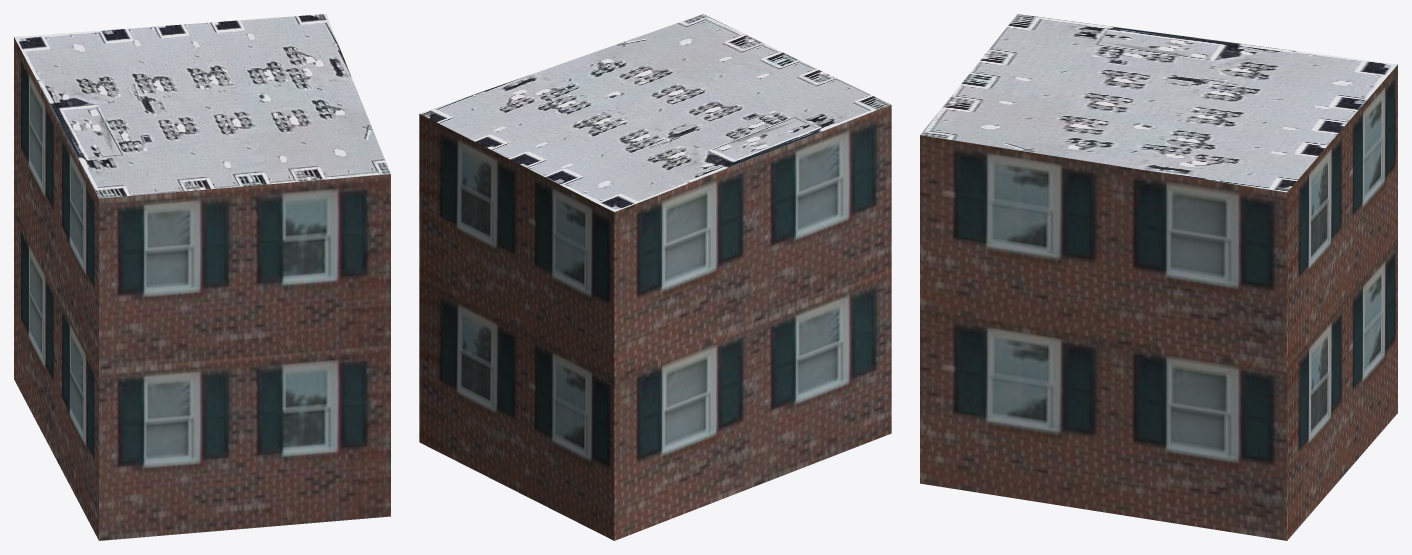
File: ResTex__5093.fbx
The picture shows the model from 3 angles, left to right: view 1: azimuth 30°, elevation 25°; view 2: azimuth 150°, elevation 25°; view 3: azimuth 270°, elevation 25°; orthographic projection. The views are drawn at different scales.
Parts seen in each view (by area): view 1: CityEngineMaterial_14_m, CityEngineMaterial_m; view 2: CityEngineMaterial_14_m, CityEngineMaterial_m; view 3: CityEngineMaterial_14_m, CityEngineMaterial_m.
Boxes of the visible parts, x1,y1,x2,y2 form: CityEngineMaterial_14_m: [14, 37, 390, 540]; CityEngineMaterial_m: [14, 14, 390, 198]; CityEngineMaterial_14_m: [419, 105, 891, 540]; CityEngineMaterial_m: [420, 14, 891, 211]; CityEngineMaterial_14_m: [920, 65, 1397, 540]; CityEngineMaterial_m: [920, 14, 1397, 192].
Bounding box in the file's own units: 6.59 × 6 × 7.46.
2 materials, 2 textured.
